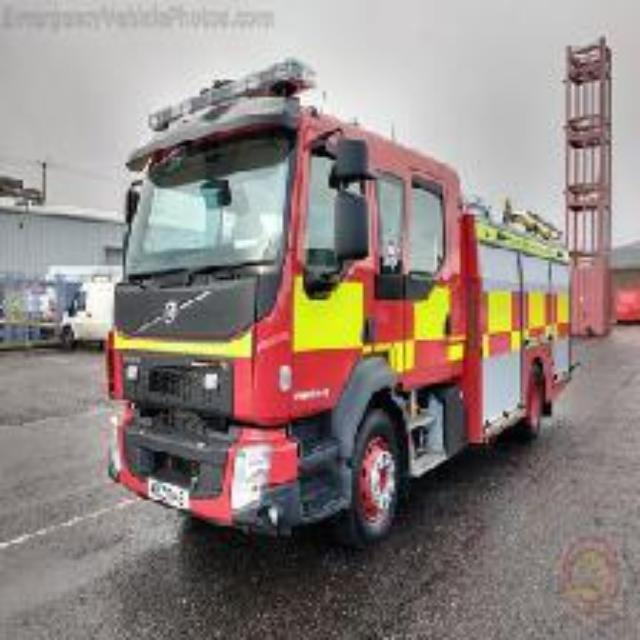emergency: (95, 58, 577, 558)
